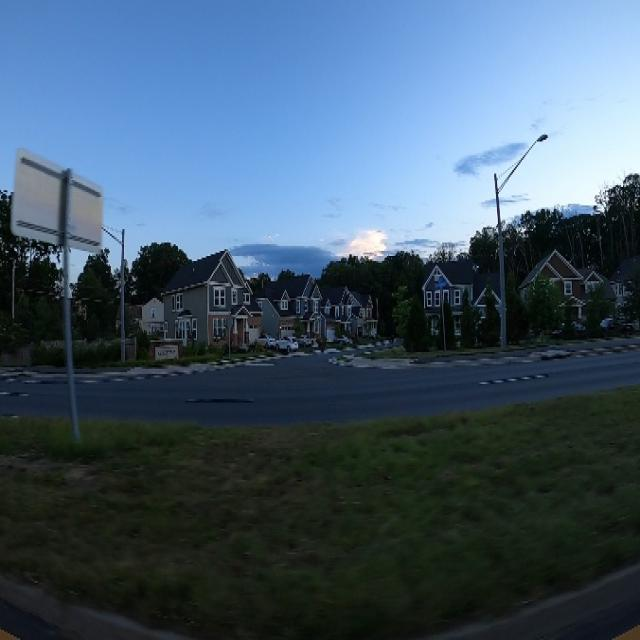cars: (275, 332, 298, 354), (255, 331, 275, 351)
